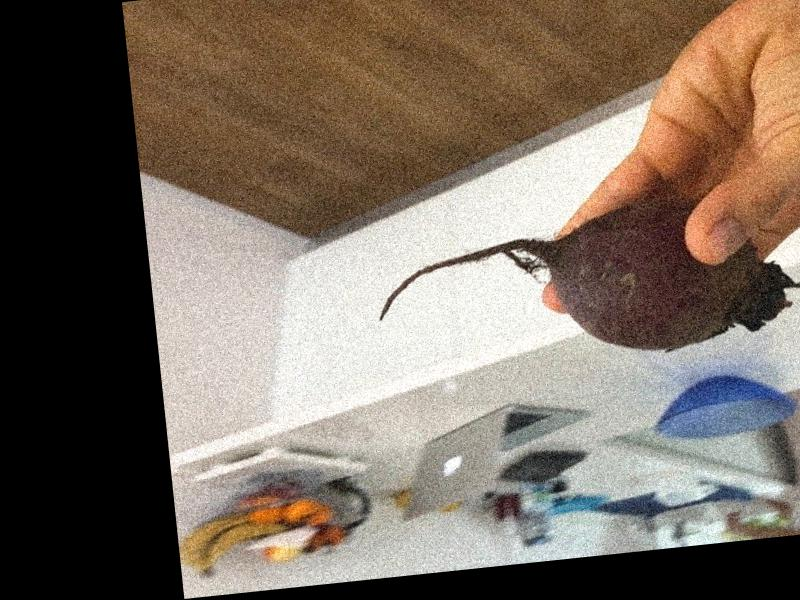Beet: (370, 189, 800, 378)
